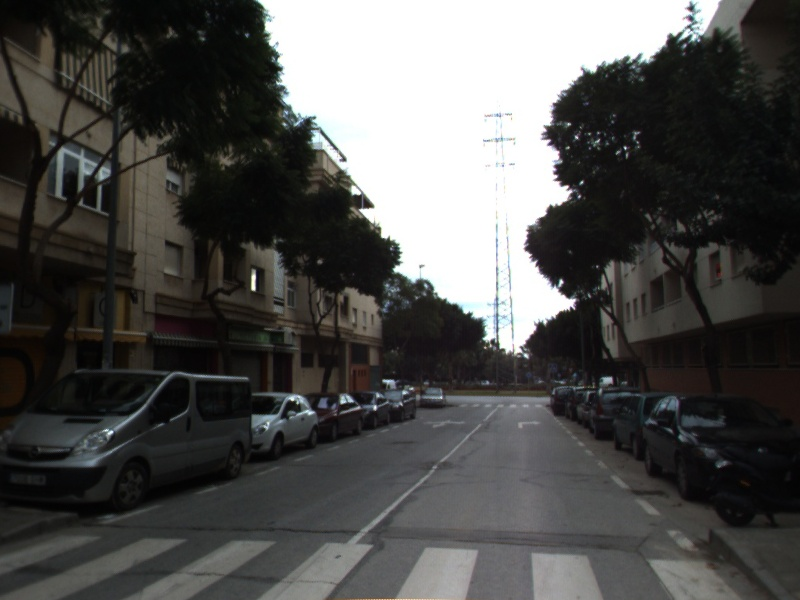RIGHT: (516, 418, 543, 430)
